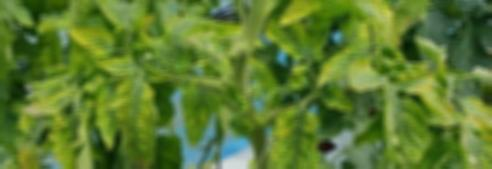Tomato leaf yellow virus: (108, 72, 163, 169), (267, 97, 324, 169), (379, 94, 427, 169), (44, 104, 98, 169), (375, 0, 444, 43), (180, 84, 222, 152), (454, 94, 492, 169), (310, 44, 369, 87), (15, 86, 86, 121), (276, 0, 324, 40), (57, 28, 120, 57), (344, 61, 387, 95), (404, 68, 438, 101)
